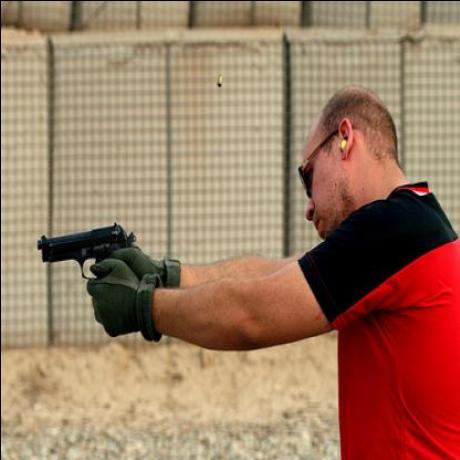1: (87, 87, 460, 460)
weapon: (30, 220, 148, 342)
